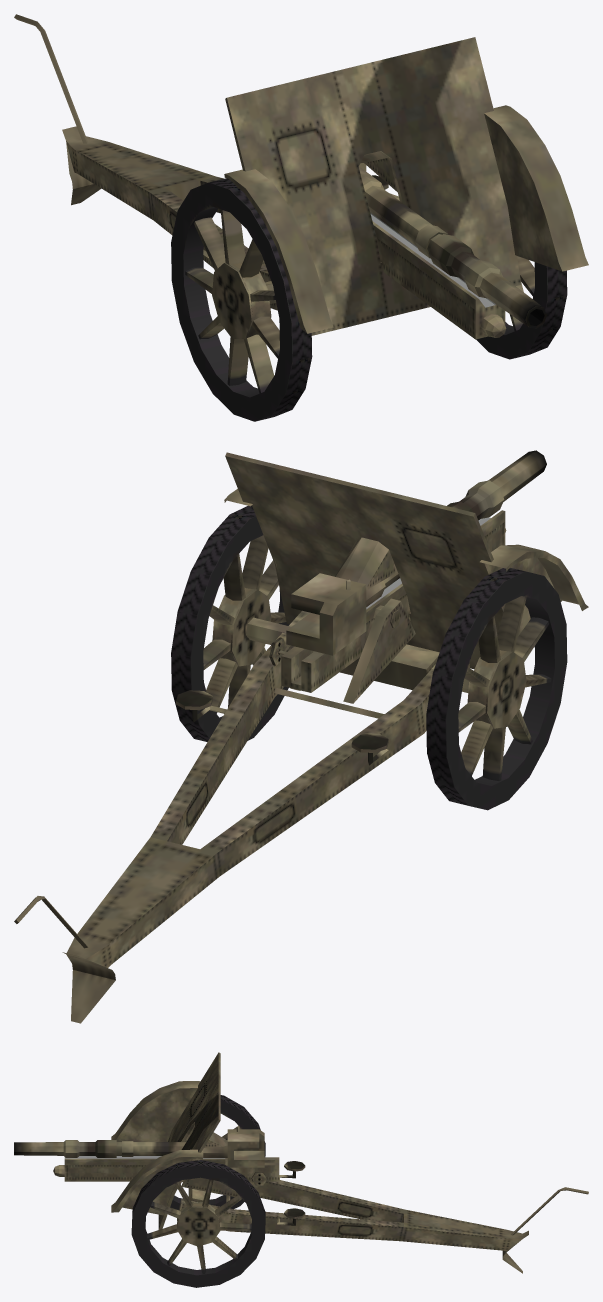
File: ITAObice100.dae
3 views of the same model, one above another, from view 1: azimuth 30°, elevation 25°; view 2: azimuth 150°, elevation 25°; view 3: azimuth 270°, elevation 25° (orthographic). The views are drawn at different scales.
Parts seen in each view (by area): view 1: shield, wheels, barrel, sleeve; view 2: shield, wheels, barrel, sleeve; view 3: shield, wheels, barrel, sleeve.
Boxes of the visible parts, bbox=[...] form: shield: bbox=[14, 14, 588, 335]; wheels: bbox=[171, 178, 567, 421]; barrel: bbox=[358, 163, 546, 328]; sleeve: bbox=[370, 213, 506, 339]; shield: bbox=[14, 452, 588, 1023]; wheels: bbox=[171, 505, 567, 810]; barrel: bbox=[286, 450, 546, 655]; sleeve: bbox=[269, 510, 506, 692]; shield: bbox=[111, 1052, 588, 1273]; wheels: bbox=[131, 1095, 265, 1287]; barrel: bbox=[14, 1126, 264, 1167]; sleeve: bbox=[53, 1156, 279, 1185].
Size of the model in its own units: 10.8 by 34.53 by 12.39.
